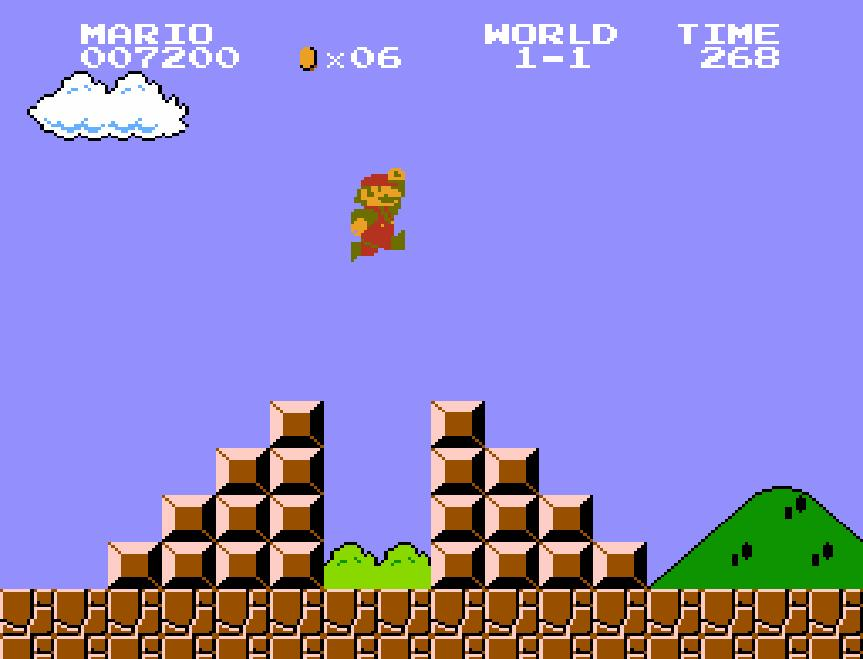big_mario: (348, 165, 406, 263)
